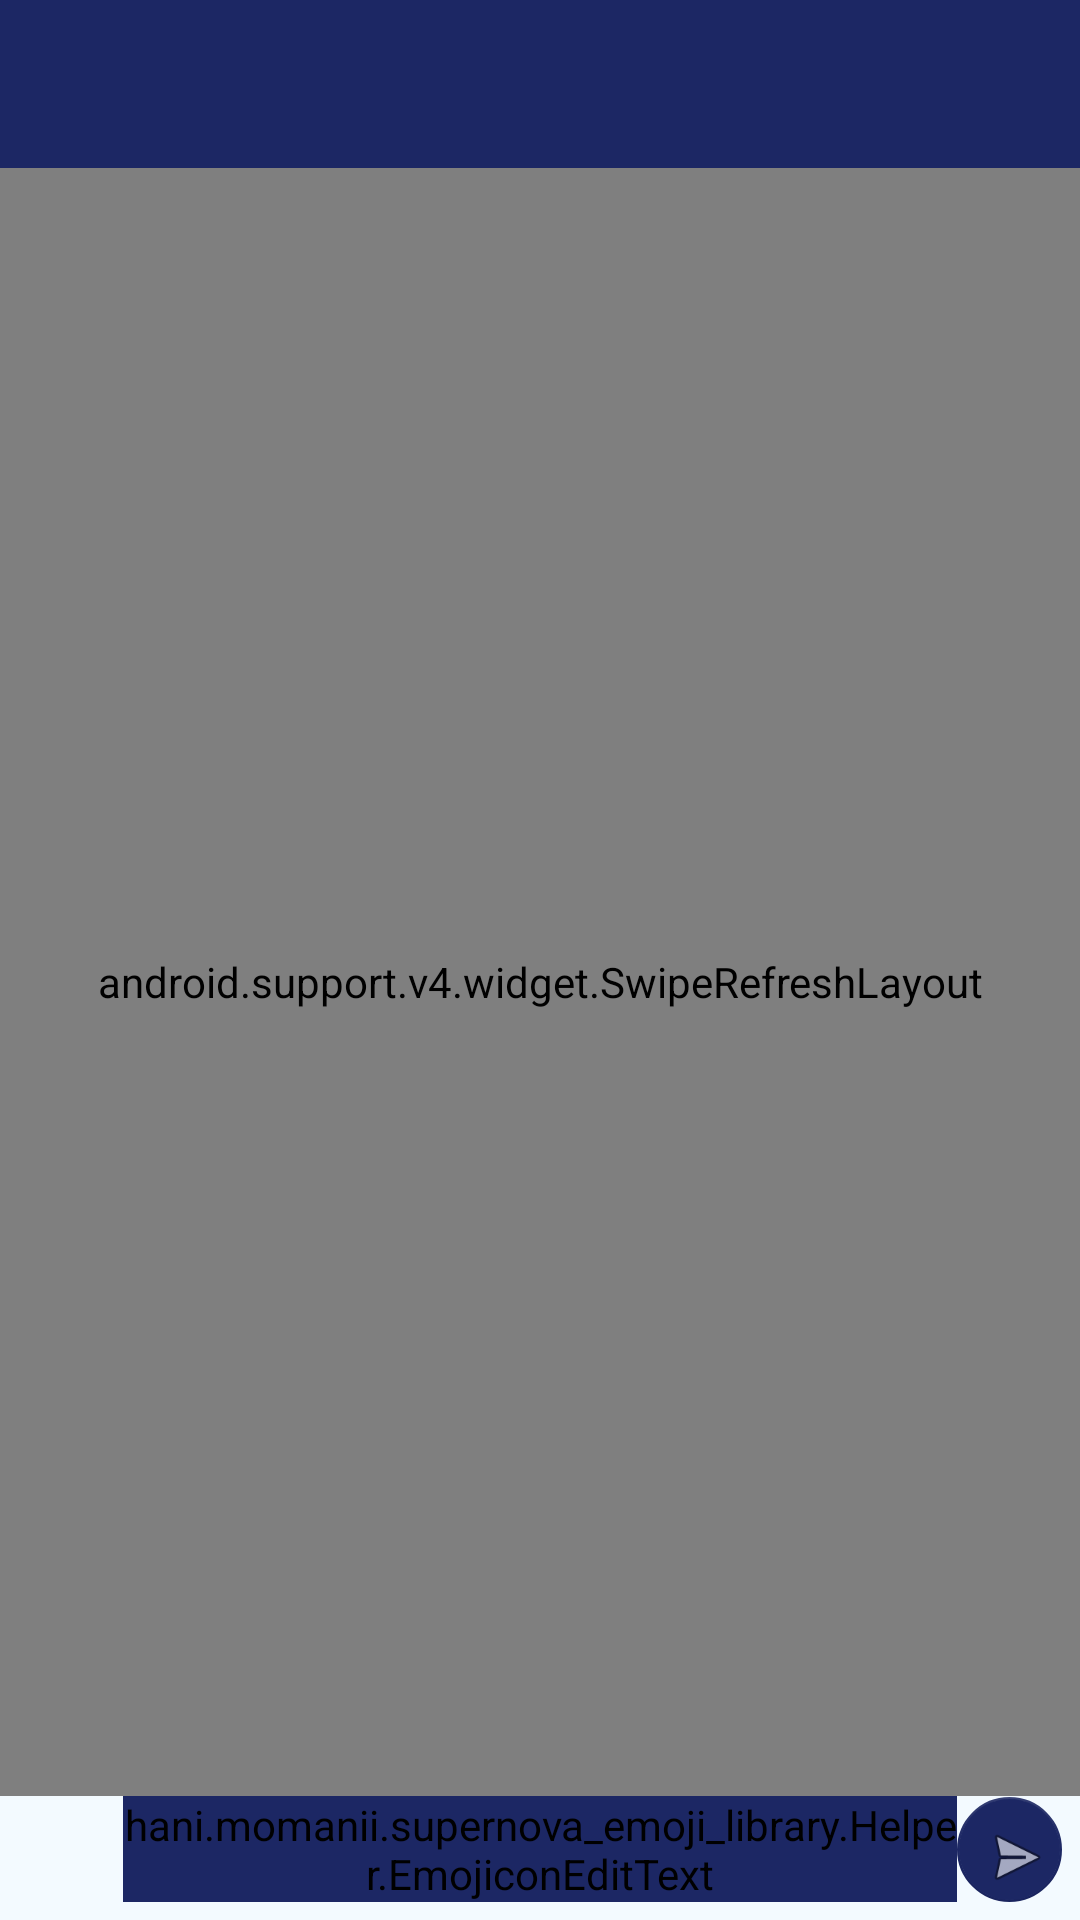

Icons on this 1080×1920 Android screen, each with the point to tap as (x=x, y=y):
send: (x=1009, y=1849)
